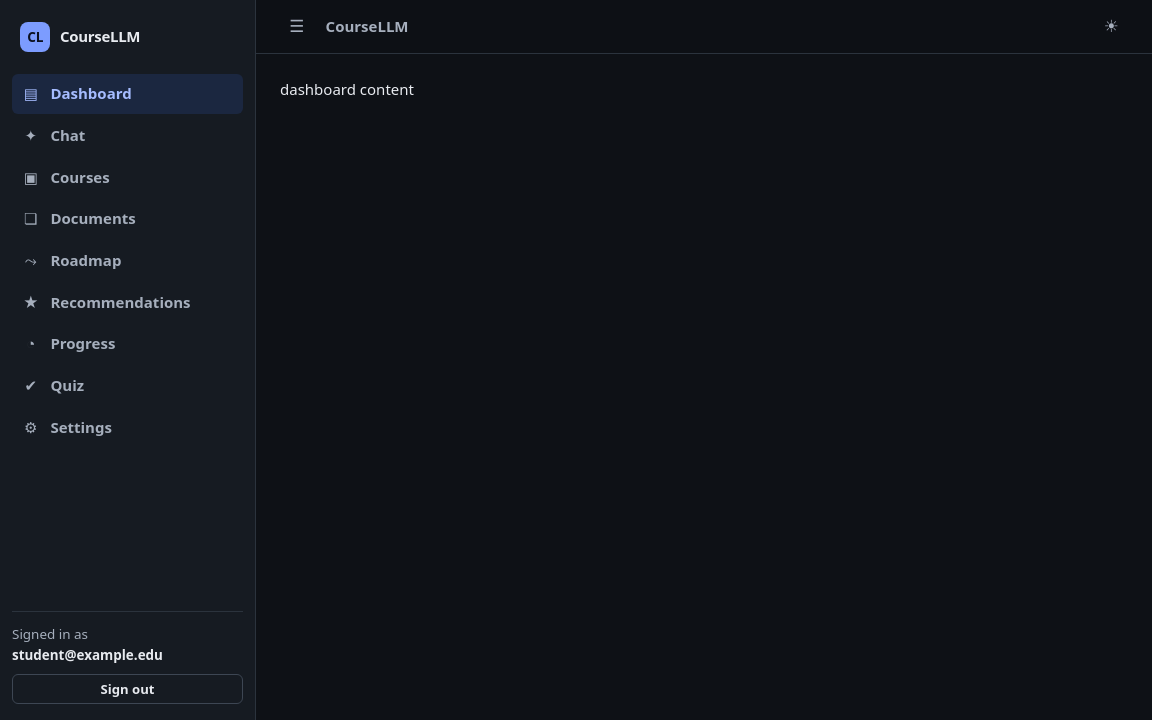
Test case: app shell at 375px › closes the drawer when a navigation link is used
What coordinates should you click on to do the following:
click the button named "Open navigation"
I would click on:
 (297, 26)
Its box is [280, 10, 314, 43].
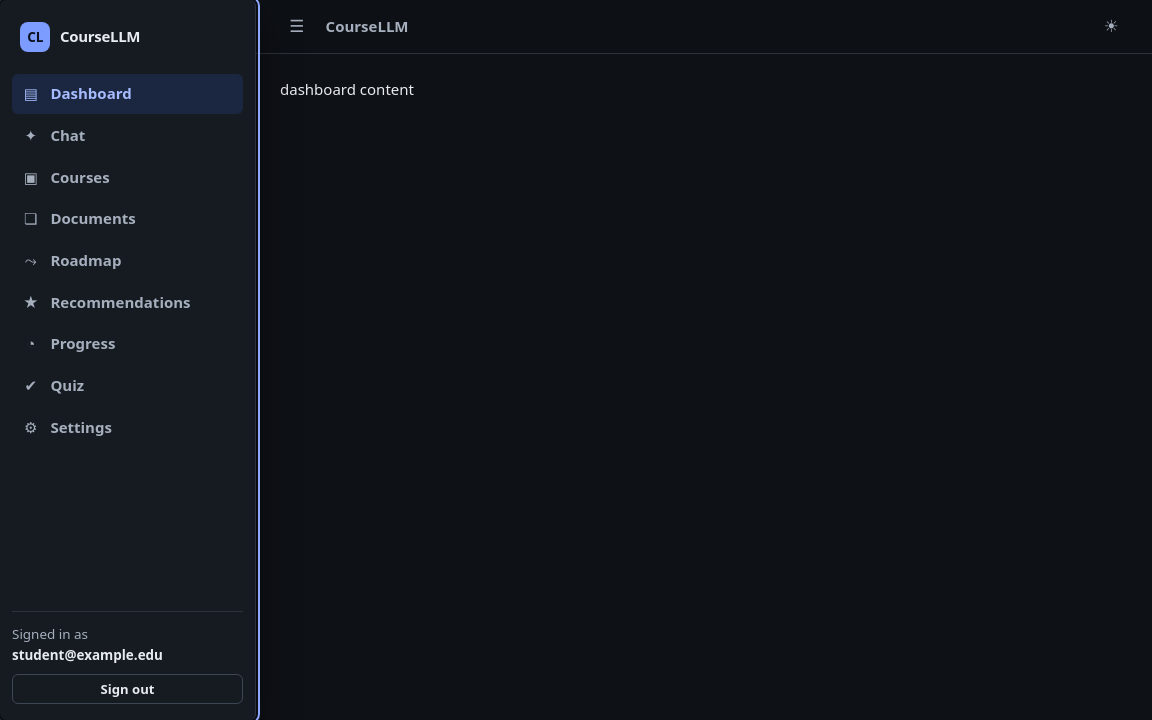
What coordinates should you click on to do the following:
click the link "✦ Chat"
I would click on:
 (55, 135)
Its box is [24, 125, 85, 145].
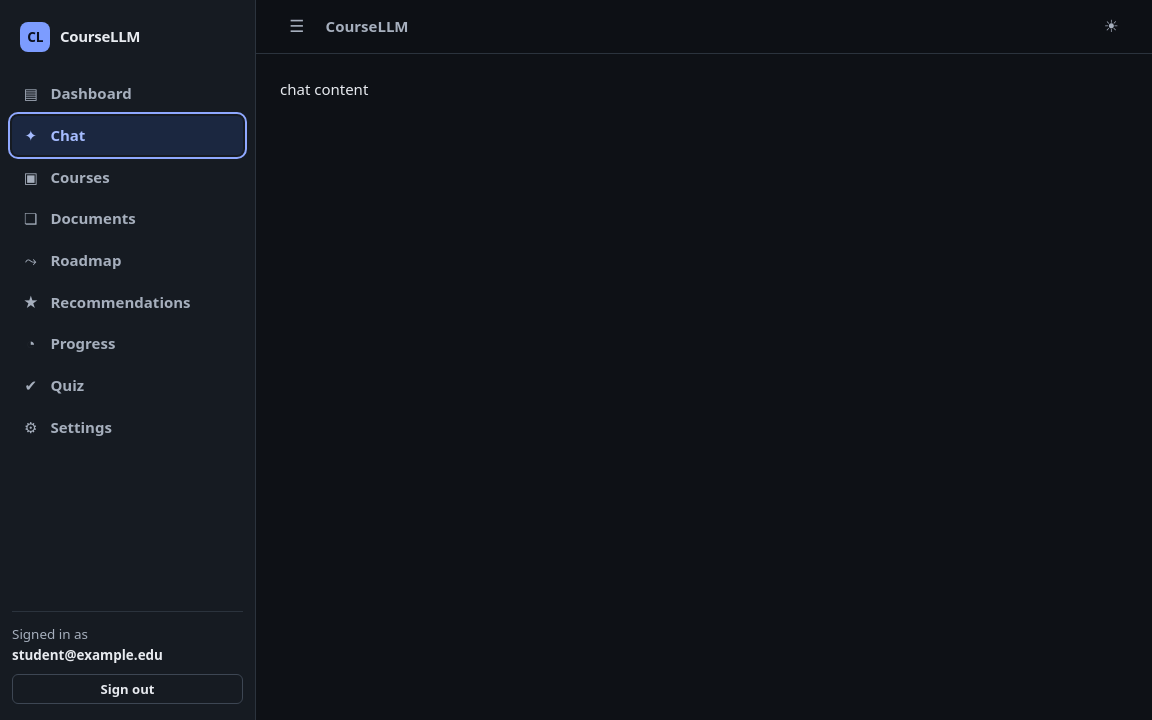
Check: the text "chat content" is shown, box [280, 79, 368, 99]
